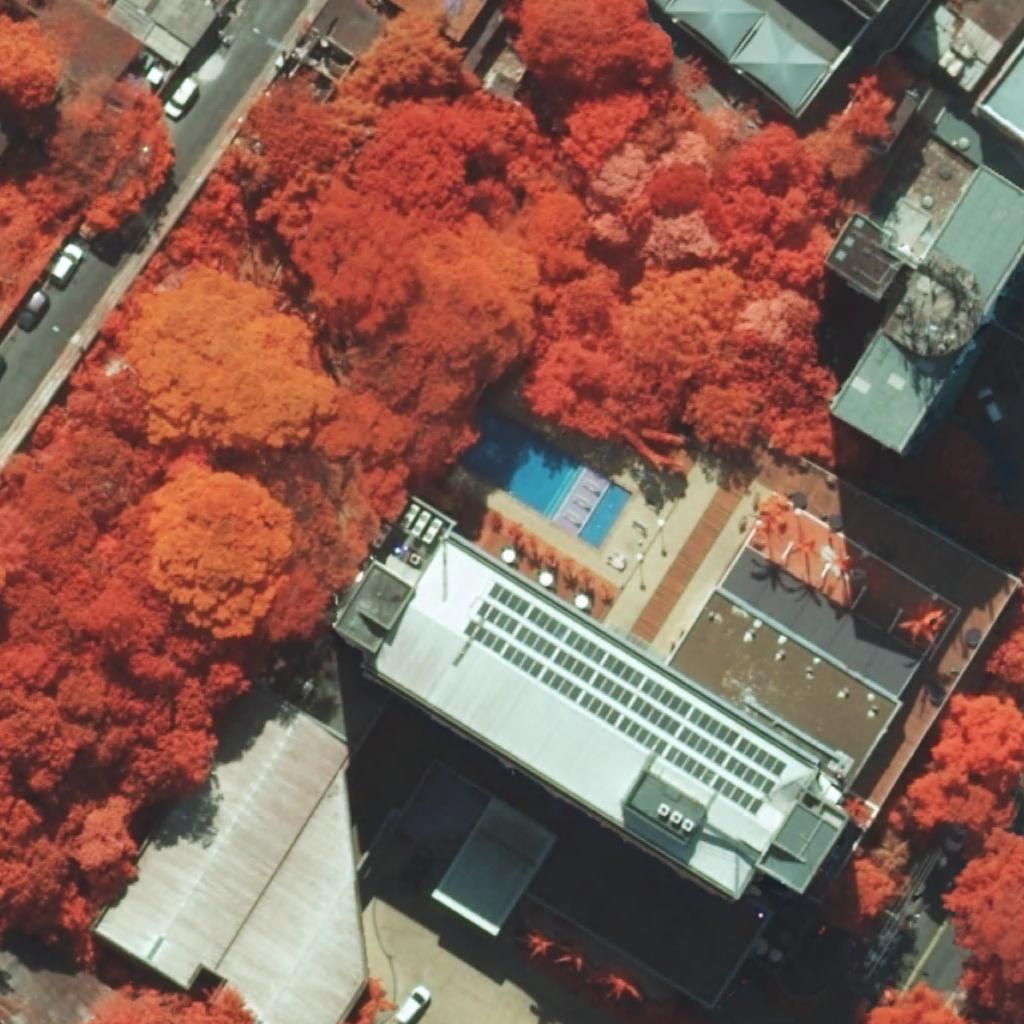pool: (458, 409, 586, 521), (577, 481, 633, 547)
